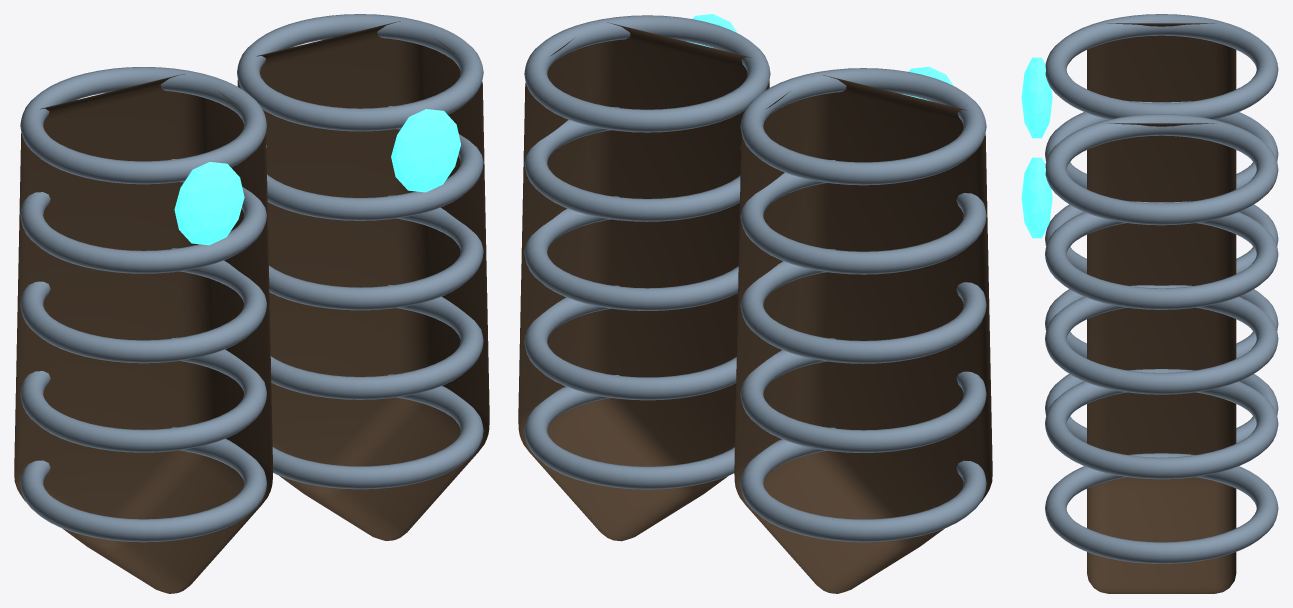
Rendered from boots_v8.glb.
3 views of the same model, side by side, from view 1: azimuth 30°, elevation 25°; view 2: azimuth 150°, elevation 25°; view 3: azimuth 270°, elevation 25° (orthographic). The views are drawn at different scales.
Visible parts, largest first — view 1: DUNE_WRAP_SECONDARY, DUNE_WRAP_SECONDARY.001, DUNE_BAND_PRIMARY.004, DUNE_BAND_PRIMARY.009, DUNE_BAND_PRIMARY, DUNE_BAND_PRIMARY.001, DUNE_BAND_PRIMARY.002, DUNE_BAND_PRIMARY.003, DUNE_BAND_PRIMARY.005, DUNE_BAND_PRIMARY.006, DUNE_BAND_PRIMARY.007, DUNE_BAND_PRIMARY.008 (+2 smaller); view 2: DUNE_WRAP_SECONDARY, DUNE_WRAP_SECONDARY.001, DUNE_BAND_PRIMARY.004, DUNE_BAND_PRIMARY.009, DUNE_BAND_PRIMARY, DUNE_BAND_PRIMARY.001, DUNE_BAND_PRIMARY.002, DUNE_BAND_PRIMARY.003, DUNE_BAND_PRIMARY.005, DUNE_BAND_PRIMARY.006, DUNE_BAND_PRIMARY.007, DUNE_BAND_PRIMARY.008; view 3: DUNE_WRAP_SECONDARY.001, DUNE_BAND_PRIMARY.009, DUNE_BAND_PRIMARY.004, DUNE_WRAP_SECONDARY, DUNE_BAND_PRIMARY.005, DUNE_BAND_PRIMARY.006, DUNE_BAND_PRIMARY.007, DUNE_BAND_PRIMARY.008, DUNE_BAND_PRIMARY.003, DUNE_ANKLET_EMISSIVE.001, DUNE_ANKLET_EMISSIVE, DUNE_BAND_PRIMARY.001 (+2 smaller).
Boxes of the visible parts, bbox=[...] form: DUNE_WRAP_SECONDARY: bbox=[14, 74, 273, 593]; DUNE_WRAP_SECONDARY.001: bbox=[237, 21, 489, 540]; DUNE_BAND_PRIMARY.004: bbox=[20, 67, 266, 184]; DUNE_BAND_PRIMARY.009: bbox=[237, 14, 483, 131]; DUNE_BAND_PRIMARY: bbox=[20, 427, 266, 542]; DUNE_BAND_PRIMARY.001: bbox=[20, 337, 266, 452]; DUNE_BAND_PRIMARY.002: bbox=[20, 248, 266, 363]; DUNE_BAND_PRIMARY.003: bbox=[20, 159, 266, 273]; DUNE_BAND_PRIMARY.005: bbox=[272, 374, 483, 489]; DUNE_BAND_PRIMARY.006: bbox=[270, 285, 483, 399]; DUNE_BAND_PRIMARY.007: bbox=[269, 195, 483, 310]; DUNE_BAND_PRIMARY.008: bbox=[266, 106, 483, 220]; DUNE_WRAP_SECONDARY: bbox=[734, 75, 992, 593]; DUNE_WRAP_SECONDARY.001: bbox=[518, 22, 769, 541]; DUNE_BAND_PRIMARY.004: bbox=[740, 68, 986, 185]; DUNE_BAND_PRIMARY.009: bbox=[524, 15, 770, 132]; DUNE_BAND_PRIMARY: bbox=[740, 427, 986, 542]; DUNE_BAND_PRIMARY.001: bbox=[740, 338, 986, 452]; DUNE_BAND_PRIMARY.002: bbox=[740, 249, 986, 363]; DUNE_BAND_PRIMARY.003: bbox=[740, 160, 986, 274]; DUNE_BAND_PRIMARY.005: bbox=[524, 375, 734, 489]; DUNE_BAND_PRIMARY.006: bbox=[524, 285, 736, 400]; DUNE_BAND_PRIMARY.007: bbox=[524, 196, 738, 310]; DUNE_BAND_PRIMARY.008: bbox=[524, 107, 740, 221]; DUNE_WRAP_SECONDARY.001: bbox=[1087, 123, 1236, 593]; DUNE_BAND_PRIMARY.009: bbox=[1045, 114, 1278, 225]; DUNE_BAND_PRIMARY.004: bbox=[1045, 14, 1278, 119]; DUNE_WRAP_SECONDARY: bbox=[1087, 23, 1236, 102]; DUNE_BAND_PRIMARY.005: bbox=[1045, 453, 1278, 563]; DUNE_BAND_PRIMARY.006: bbox=[1045, 369, 1278, 479]; DUNE_BAND_PRIMARY.007: bbox=[1045, 285, 1278, 394]; DUNE_BAND_PRIMARY.008: bbox=[1045, 201, 1278, 309]; DUNE_BAND_PRIMARY.003: bbox=[1045, 101, 1278, 189]; DUNE_ANKLET_EMISSIVE.001: bbox=[1021, 157, 1052, 238]; DUNE_ANKLET_EMISSIVE: bbox=[1021, 57, 1052, 138]; DUNE_BAND_PRIMARY.001: bbox=[1045, 289, 1278, 358].
Bounding box in the file's own units: 1.51 × 1.53 × 0.825.
